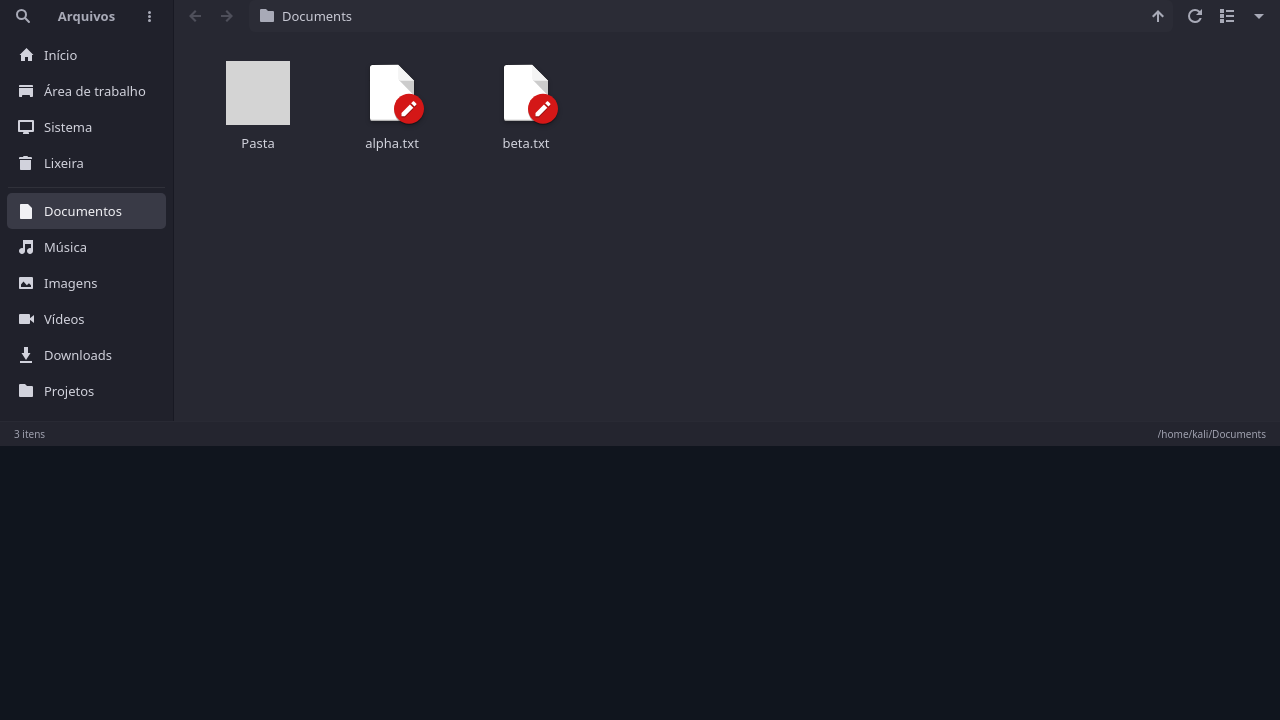
it: creates folders and files with keyboard shortcuts and preserves entered names after failure
Expected: the button "alpha.txt" is shown, [330,50,454,162]
Press n in the element named "Gerenciador de arquivos"
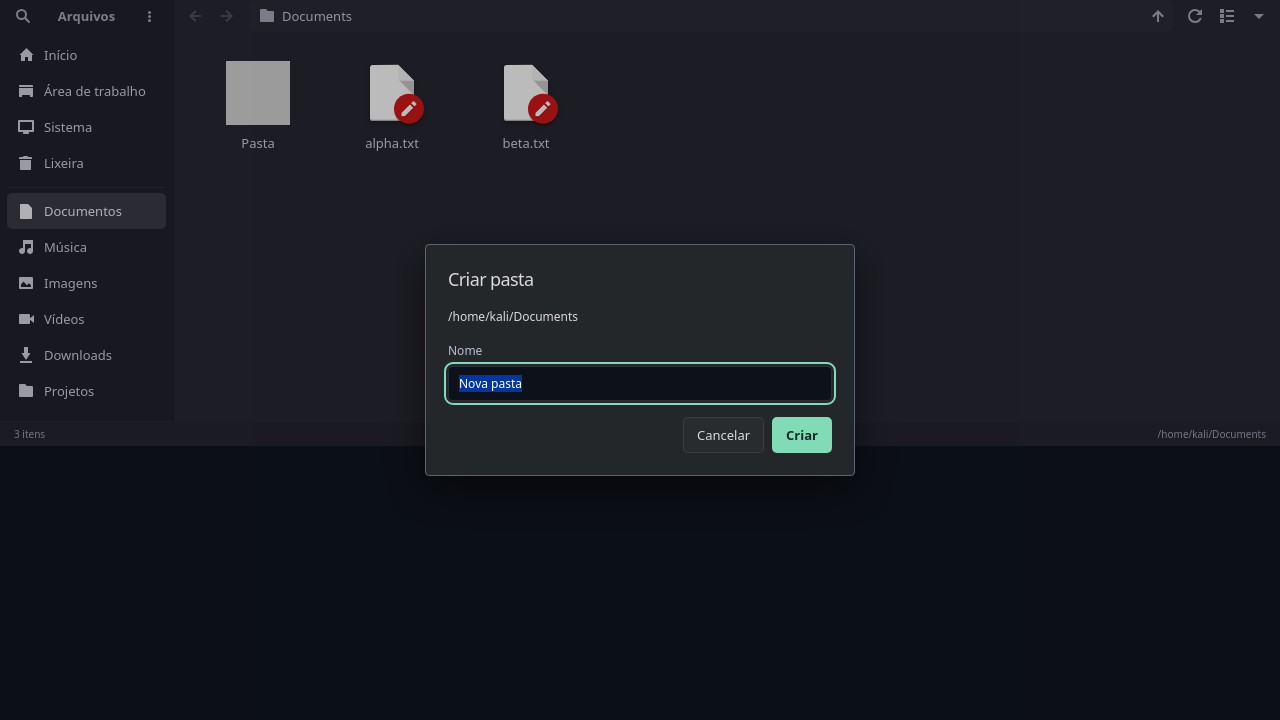
Replace the text in the field labelled "Nome" with "Projeto" at (640, 384), box [448,366,832,401]
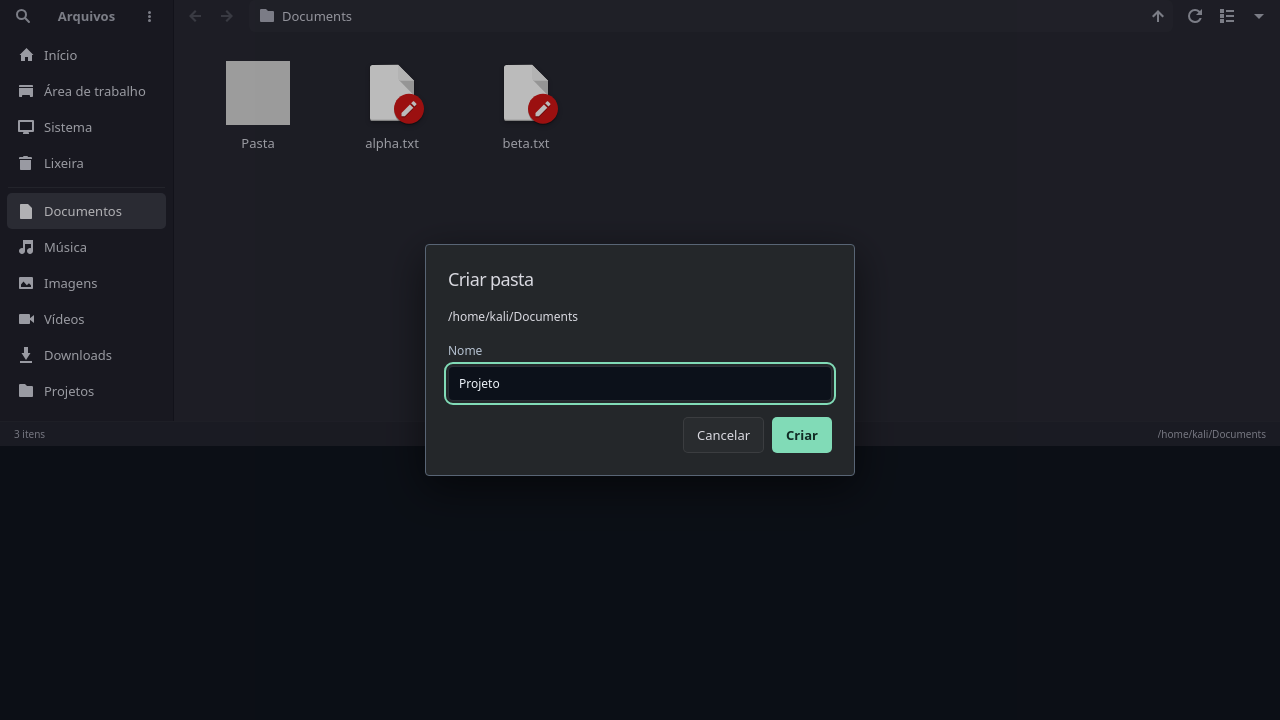
Click the button "Criar".
click(802, 435)  # box [772,417,832,453]
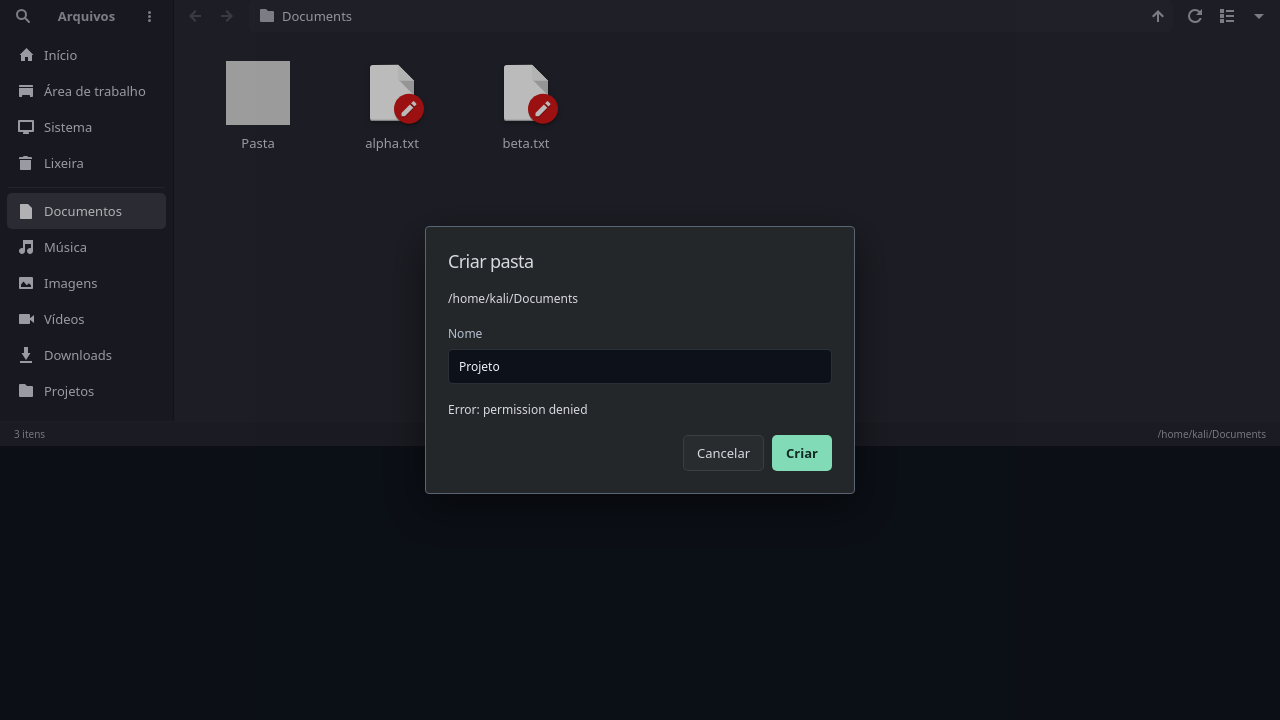
Now the message shows "permission denied", box [448,400,588,418]
Click the button "Criar".
click(802, 453)  # box [772,435,832,471]
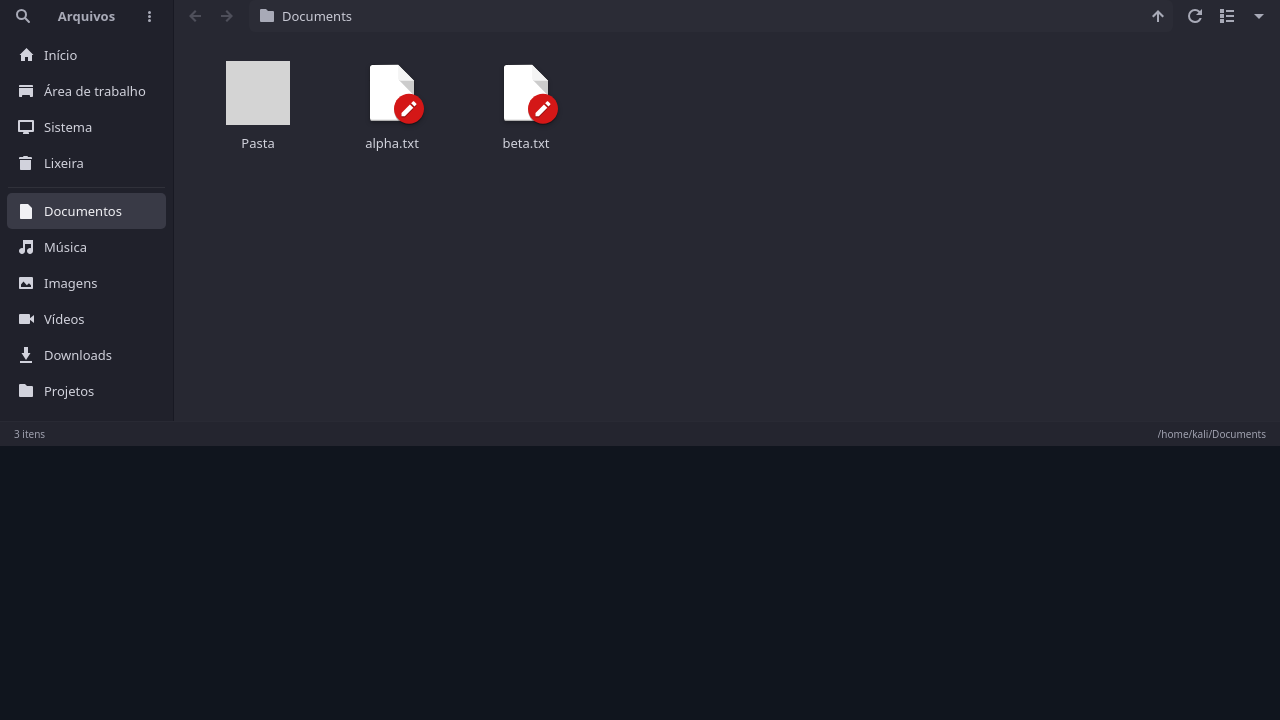
Now the dialog is gone
Press n in the element named "Gerenciador de arquivos"
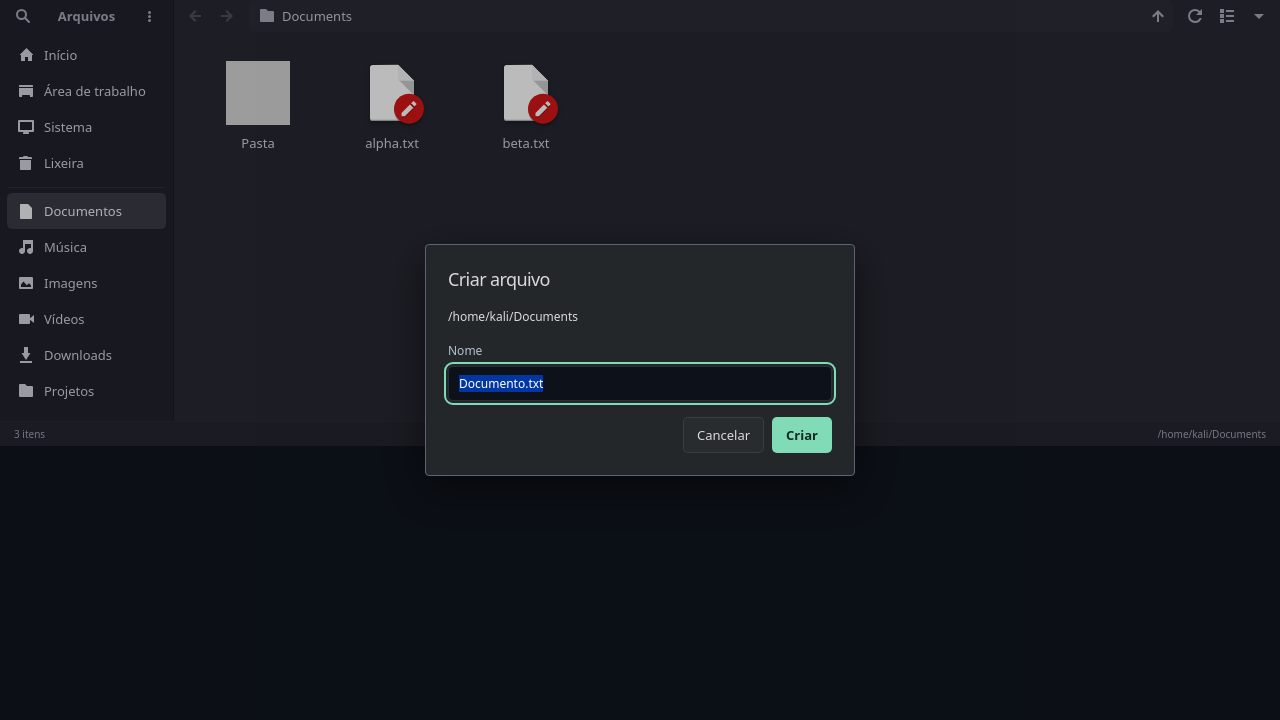
Click the button "Criar".
click(802, 435)  # box [772,417,832,453]
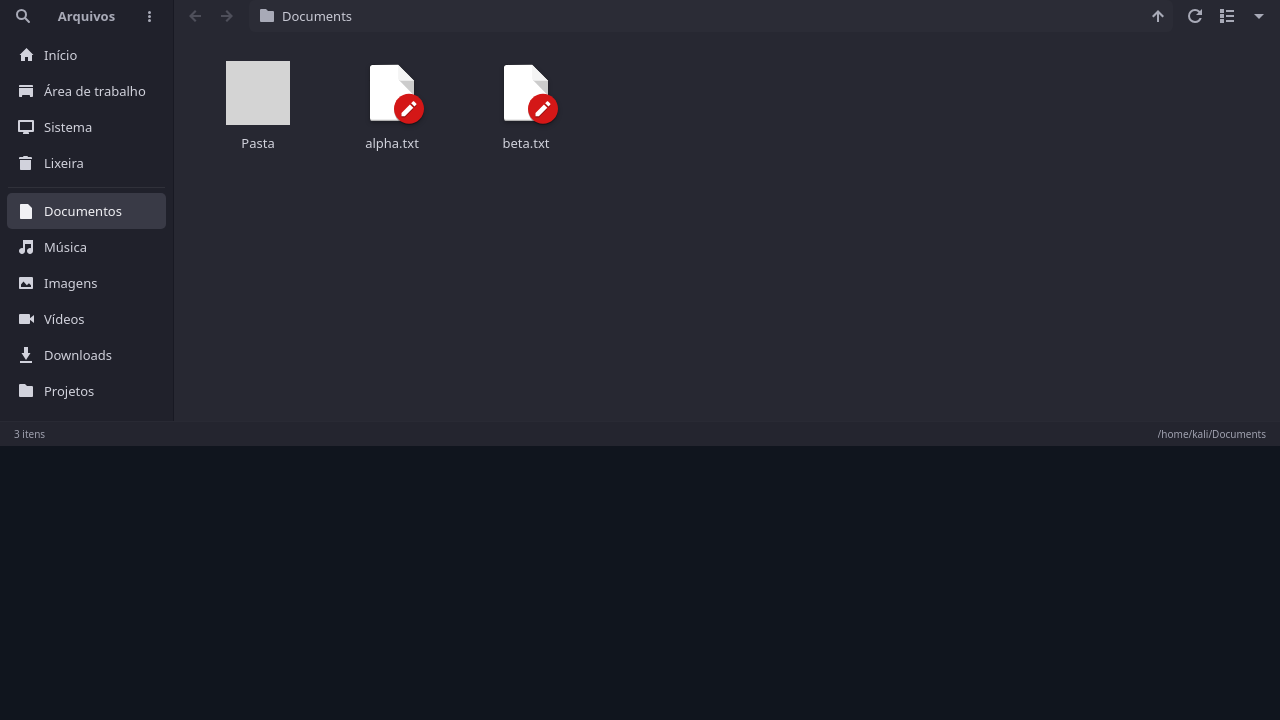
Now the dialog is gone
